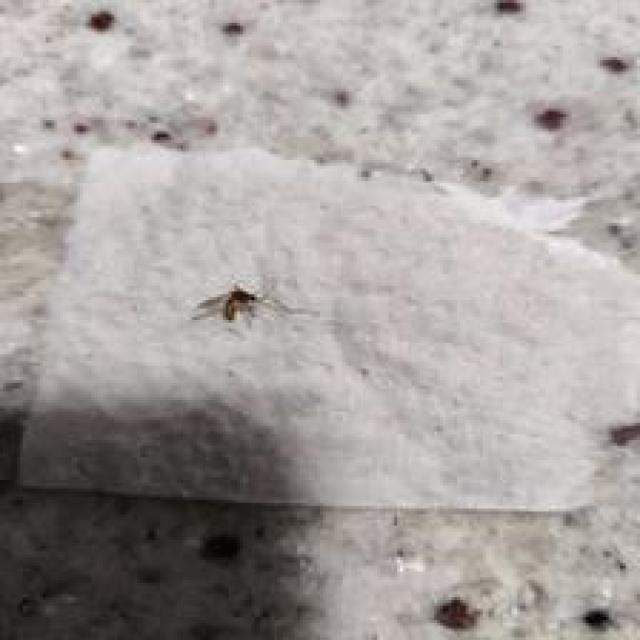Culex: (190, 282, 281, 327)
